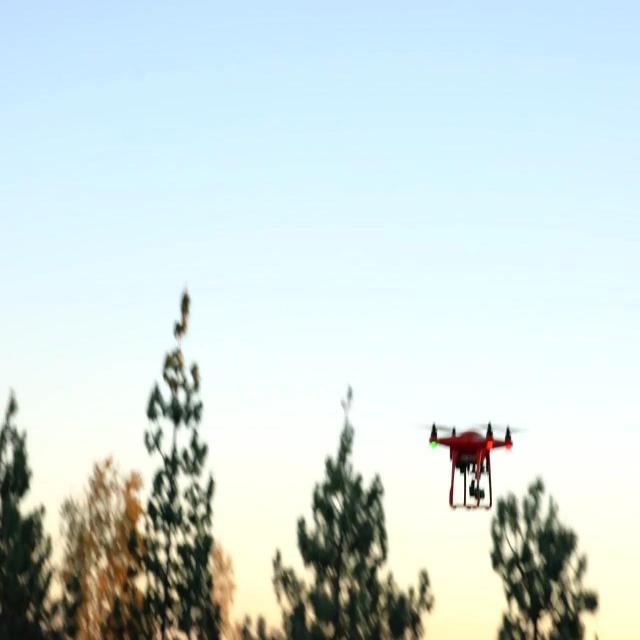UAV: (417, 421, 526, 511)
